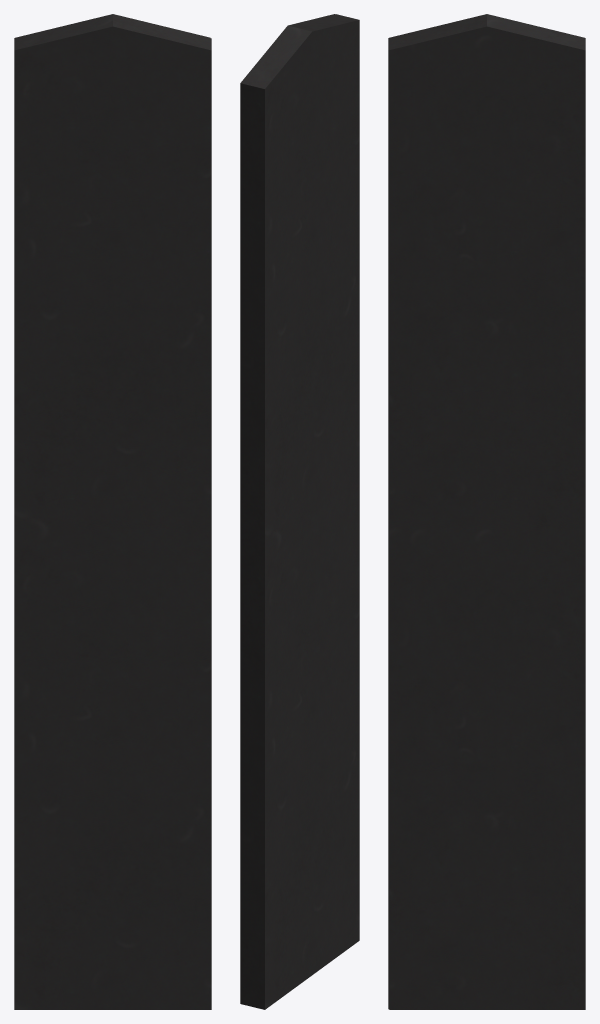
Rendered from A13.1.1 H.WALL. PNL 5498.fbx.
3 renders of one model, left to right at view 1: azimuth 90°, elevation 25°; view 2: azimuth 150°, elevation 25°; view 3: azimuth 270°, elevation 25°, orthographic. The views are drawn at different scales.
Parts seen in each view (by area): view 1: Model; view 2: Model; view 3: Model.
Part boxes in pixels (bbox=[...]): Model: bbox=[14, 14, 211, 1009]; Model: bbox=[240, 14, 359, 1009]; Model: bbox=[388, 14, 585, 1009].
Size of the model in its own units: 150 by 5498 by 1000.
